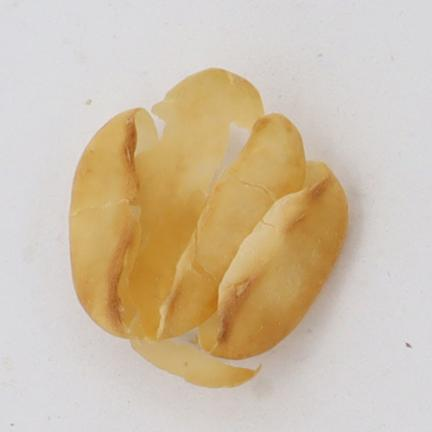parchment: (69, 68, 347, 386)
